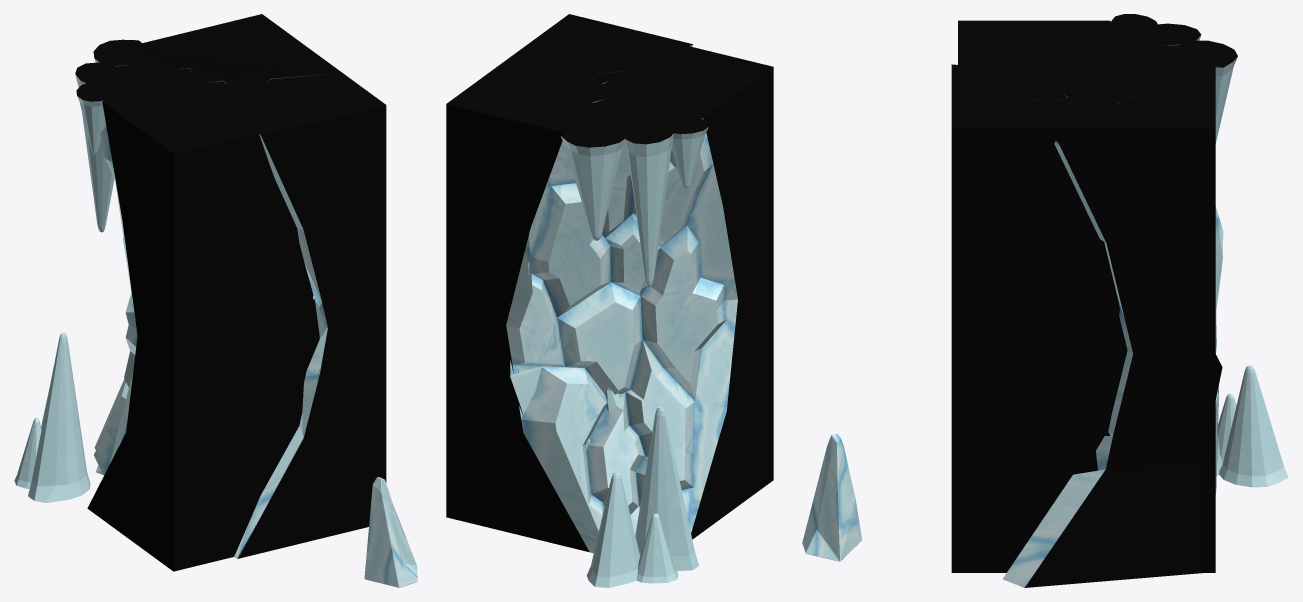
Rendered from ice-cave.glb.
The picture shows the model from 3 angles, left to right: view 1: azimuth 30°, elevation 25°; view 2: azimuth 150°, elevation 25°; view 3: azimuth 270°, elevation 25°; orthographic projection. The views are drawn at different scales.
Parts seen in each view (by area): view 1: IceWallConcaveCorner, IceWall3, IceWall1, IceWall2, IceWallConvexCorner, Stal; view 2: IceWallConcaveCorner, IceWall1, IceWall2, IceWallConvexCorner, IceWall3; view 3: IceWall1, IceWallConvexCorner, IceWall2, IceWallConcaveCorner, IceWall3, Stal.
Part boxes in pixels (box(x1,y1,x2,y2)): IceWallConcaveCorner: box(14, 14, 380, 571); IceWall3: box(146, 16, 386, 558); IceWall1: box(162, 16, 385, 558); IceWall2: box(146, 17, 383, 558); IceWallConvexCorner: box(142, 19, 341, 85); Stal: box(364, 477, 417, 587); IceWallConcaveCorner: box(446, 17, 773, 587); IceWall1: box(450, 14, 689, 472); IceWall2: box(459, 14, 689, 129); IceWallConvexCorner: box(456, 46, 612, 450); IceWall3: box(449, 14, 692, 372); IceWall1: box(952, 56, 1207, 572); IceWallConvexCorner: box(1003, 60, 1222, 587); IceWall2: box(952, 65, 1207, 546); IceWallConcaveCorner: box(958, 14, 1288, 572); IceWall3: box(951, 64, 1209, 572); Stal: box(802, 434, 861, 561).
Bounding box in the file's own units: 1.35 × 2.02 × 1.99.
Materials: 2 (1 with a texture image).
